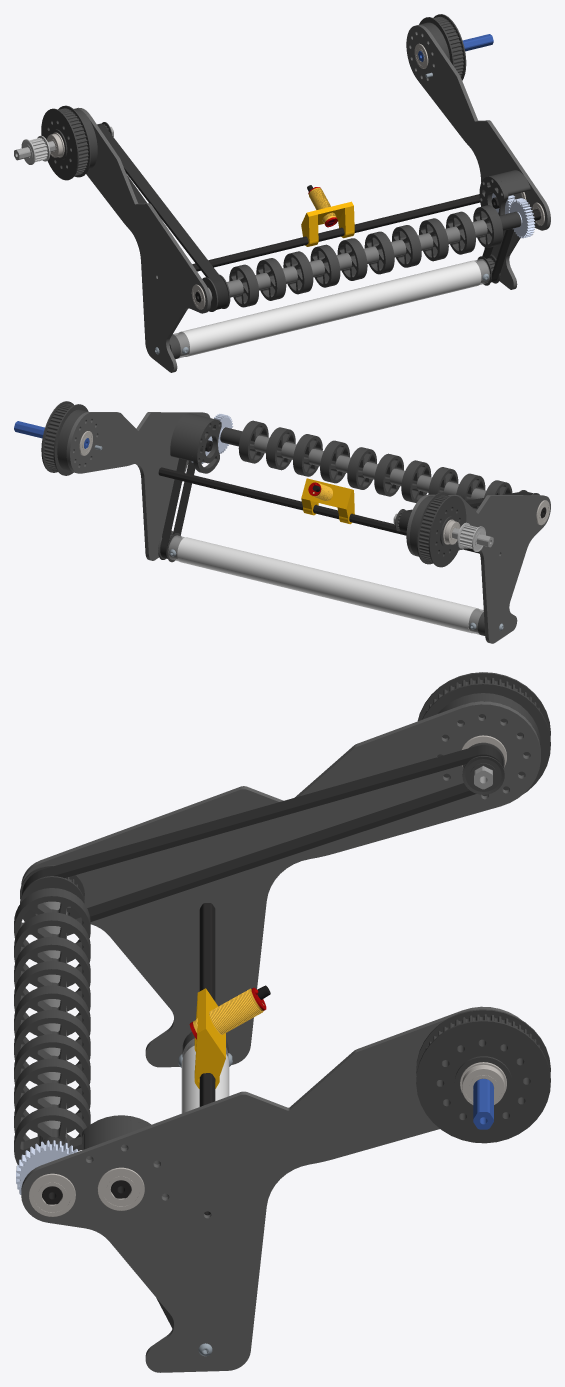
The picture shows the model from 3 angles, top to bottom: view 1: azimuth 30°, elevation 25°; view 2: azimuth 150°, elevation 25°; view 3: azimuth 270°, elevation 25°; orthographic projection. The views are drawn at different scales.
Visible parts, largest first — view 1: Part 15, 2" 1/2" Hex Bore Flex Wheel (WCP-0133) (×10), Rubber, Part 14, 53t HTD Pulley 15.5mm Wide (×2), 140T 5M 15mm Wide Belt, 3/8" ThunderHex (18.625 in), Part 34, Part 32, 36t 20dp Aluminum 1/2" Hex Bore Gear (217-3214), 18t 15mm Wide 1/2" Hex Bore Double Flange 5mm HTD Aluminum P, 70T 5M 9mm Wide Belt (+2 smaller); view 2: Rubber, Part 14, 2" 1/2" Hex Bore Flex Wheel (WCP-0133) (×10), Part 15, 53t HTD Pulley 15.5mm Wide (×2), 3/8" ThunderHex (18.625 in), 70T 5M 9mm Wide Belt, Part 34, Part 32, Part 31, 18t 15mm Wide 1/2" Hex Bore Double Flange 5mm HTD Aluminum P, Polycarbonate Tube (+4 smaller); view 3: Part 14, Part 15, 2" 1/2" Hex Bore Flex Wheel (WCP-0133) (×10), 53t HTD Pulley 15.5mm Wide (×2), 140T 5M 15mm Wide Belt, Thunderhex ID 1.125 OD Flanged Bearing (217-4006) (×3), Part 34, 3/8" ThunderHex (18.625 in), Rubber, Proximity_Sensor_E18-D80NK v7, 24t HTD Pulley 15.6mm Wide, 36t 20dp Aluminum 1/2" Hex Bore Gear (217-3214) (+3 smaller).
Part boxes in pixels (<box>): Part 15: <box>76,107,210,372</box>; 2" 1/2" Hex Bore Flex Wheel (WCP-0133) (×10): <box>229,205,502,307</box>; Rubber: <box>179,260,481,356</box>; Part 14: <box>406,25,550,289</box>; 53t HTD Pulley 15.5mm Wide (×2): <box>41,14,466,180</box>; 140T 5M 15mm Wide Belt: <box>97,123,228,309</box>; 3/8" ThunderHex (18.625 in): <box>192,194,480,271</box>; Part 34: <box>301,201,354,246</box>; Part 32: <box>479,175,508,215</box>; 36t 20dp Aluminum 1/2" Hex Bore Gear (217-3214): <box>508,198,535,238</box>; 18t 15mm Wide 1/2" Hex Bore Double Flange 5mm HTD Aluminum P: <box>21,135,50,164</box>; 70T 5M 9mm Wide Belt: <box>482,193,521,282</box>; Rubber: <box>177,537,479,633</box>; Part 14: <box>66,412,210,560</box>; 2" 1/2" Hex Bore Flex Wheel (WCP-0133) (×10): <box>238,420,512,511</box>; Part 15: <box>406,494,550,643</box>; 53t HTD Pulley 15.5mm Wide (×2): <box>41,401,466,567</box>; 3/8" ThunderHex (18.625 in): <box>158,467,479,553</box>; 70T 5M 9mm Wide Belt: <box>160,458,195,558</box>; Part 34: <box>301,478,354,524</box>; Part 32: <box>192,418,221,473</box>; Part 31: <box>170,413,211,461</box>; 18t 15mm Wide 1/2" Hex Bore Double Flange 5mm HTD Aluminum P: <box>457,522,485,551</box>; Polycarbonate Tube: <box>168,535,483,634</box>; Part 14: <box>21,1006,520,1372</box>; Part 15: <box>21,701,540,1067</box>; 2" 1/2" Hex Bore Flex Wheel (WCP-0133) (×10): <box>14,888,90,1164</box>; 53t HTD Pulley 15.5mm Wide (×2): <box>416,672,550,1143</box>; 140T 5M 15mm Wide Belt: <box>22,745,503,921</box>; Thunderhex ID 1.125 OD Flanged Bearing (217-4006) (×3): <box>29,1062,506,1216</box>; Part 34: <box>194,988,225,1088</box>; 3/8" ThunderHex (18.625 in): <box>199,903,215,1215</box>; Rubber: <box>181,1045,229,1113</box>; Proximity_Sensor_E18-D80NK v7: <box>193,988,263,1034</box>; 24t HTD Pulley 15.6mm Wide: <box>20,865,84,921</box>; 36t 20dp Aluminum 1/2" Hex Bore Gear (217-3214): <box>16,1140,77,1194</box>.
Bounding box in the file's own units: 0.6668 × 0.2729 × 0.3551.
